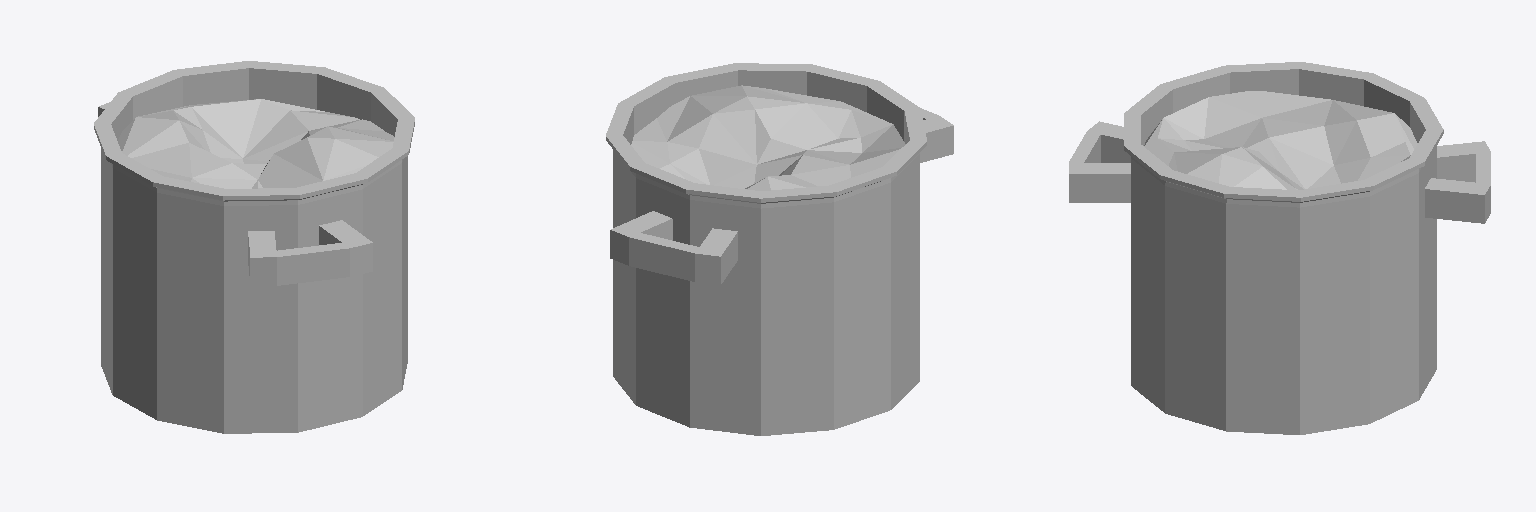
File: pentola.obj
3 views of the same model, side by side, from view 1: azimuth 30°, elevation 25°; view 2: azimuth 150°, elevation 25°; view 3: azimuth 270°, elevation 25° (orthographic).
Parts seen in each view (by area): view 1: obj0, obj1; view 2: obj0, obj1; view 3: obj0, obj1.
Boxes of the visible parts, box(x1,y1,x2,y2) form: obj0: box(94, 61, 414, 433); obj1: box(118, 99, 394, 188); obj0: box(606, 63, 953, 435); obj1: box(631, 85, 905, 190); obj0: box(1069, 62, 1490, 434); obj1: box(1144, 91, 1417, 189).
Size of the model in its own units: 2.08 by 1.8 by 2.72.